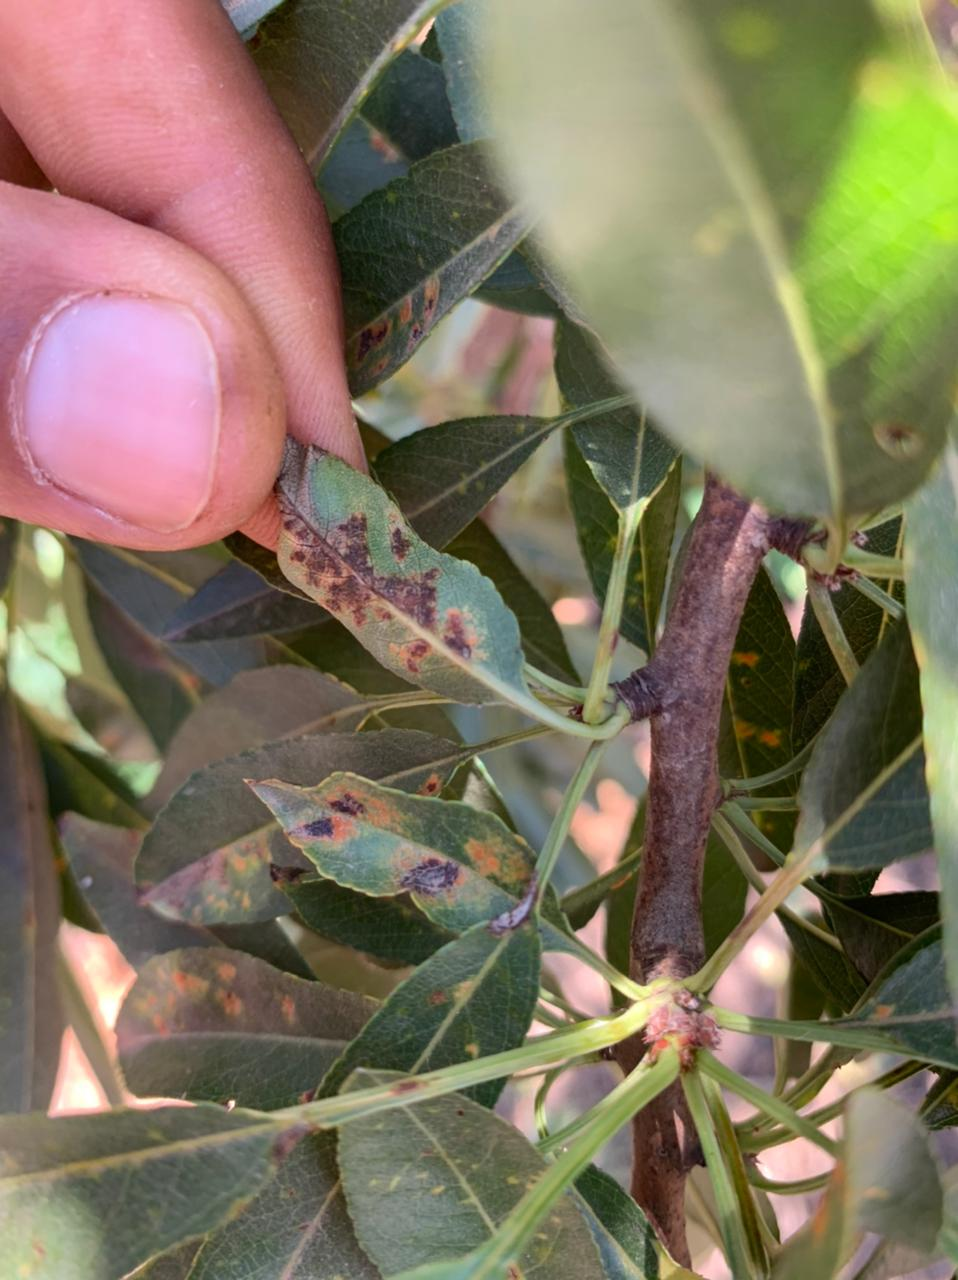polystigma: (274, 435, 554, 725), (129, 726, 483, 927), (236, 771, 556, 941), (343, 138, 540, 395), (114, 941, 387, 1107)
